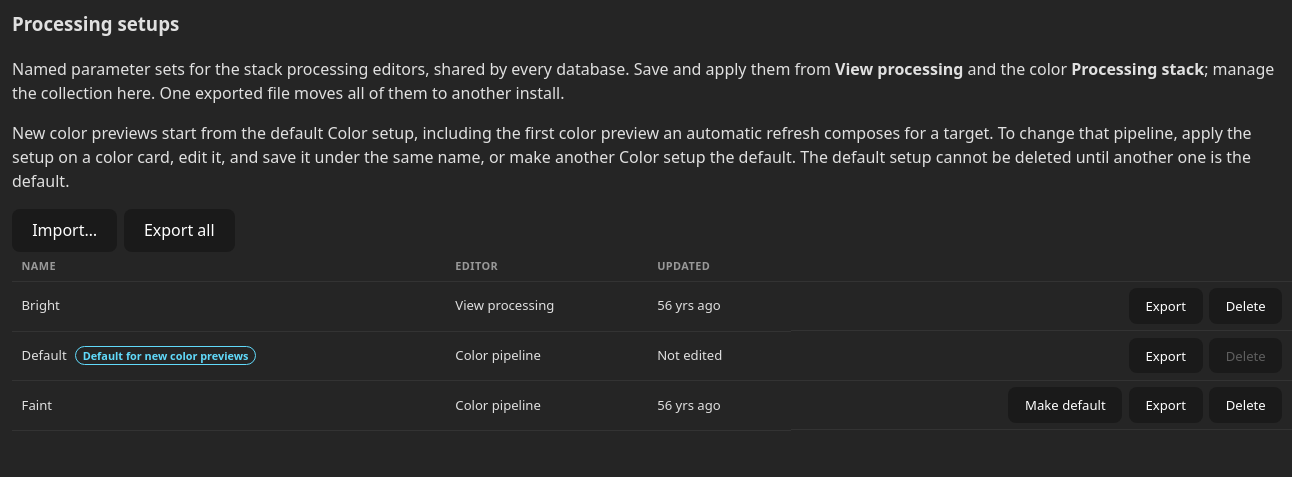
Scenario: ProcessingSetupsManager › marks another Color setup as the default
Click the button with aria-label "Make “Faint” the default for new color previews".
click(1065, 405)  # box [1008, 387, 1122, 423]
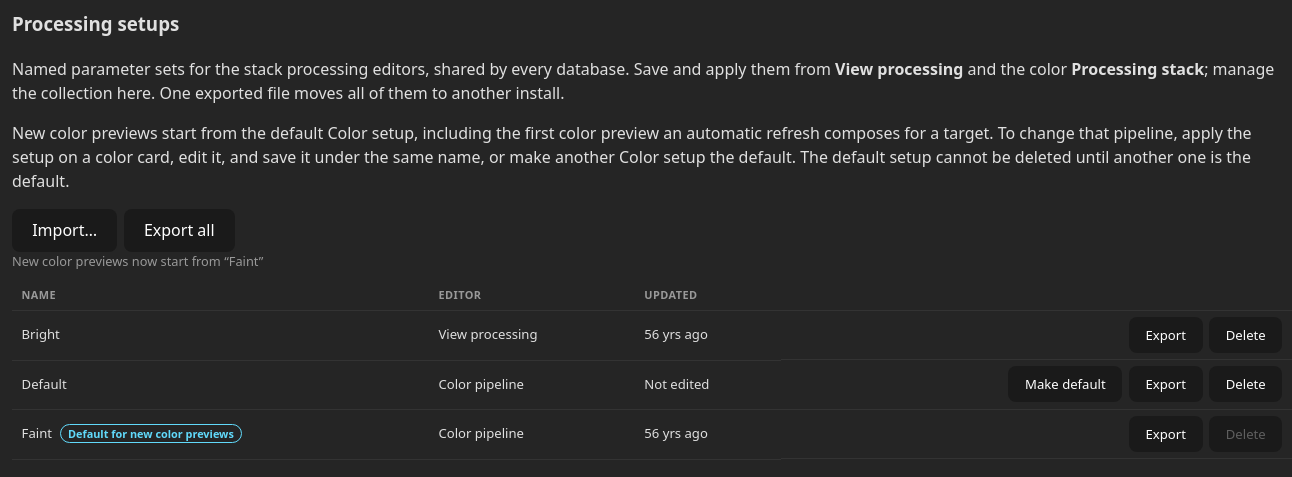
expect the text "New color previews now start from “Faint”" is shown: met, box [12, 252, 263, 270]
